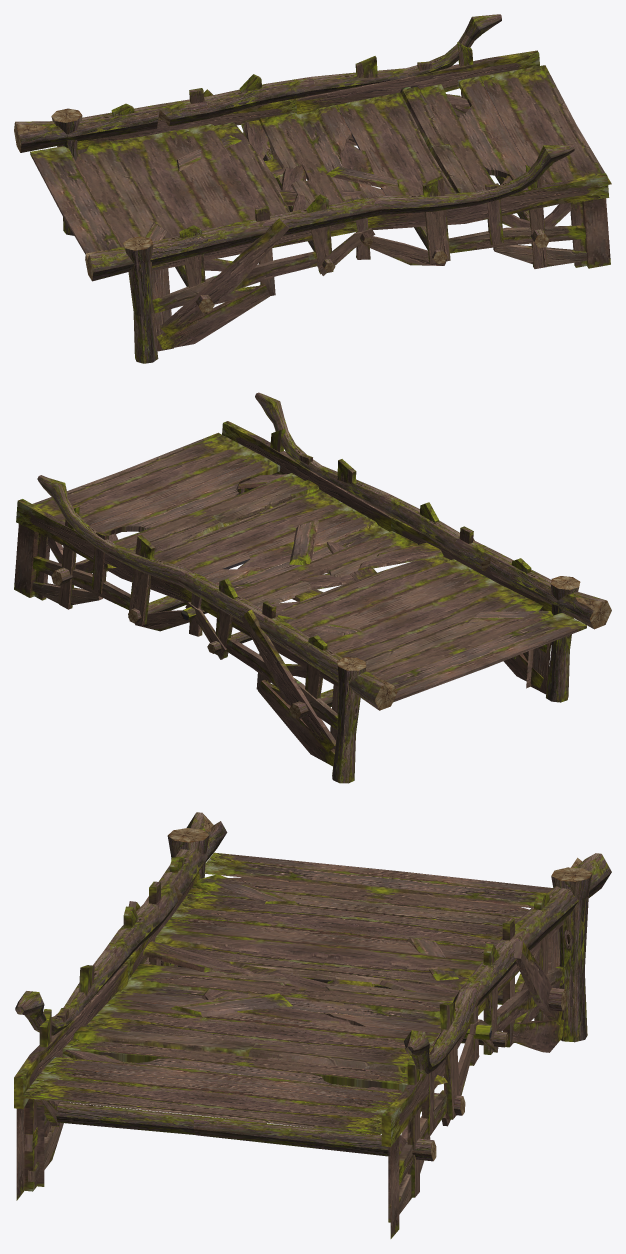
The model's file is f_1157_woodbrigde1.FBX.
The picture shows the model from 3 angles, top to bottom: view 1: azimuth 30°, elevation 25°; view 2: azimuth 150°, elevation 25°; view 3: azimuth 270°, elevation 25°; orthographic projection. The views are drawn at different scales.
Parts seen in each view (by area): view 1: w; view 2: w; view 3: w.
Part boxes in pixels (bbox=[...]): w: bbox=[14, 14, 611, 363]; w: bbox=[14, 392, 611, 783]; w: bbox=[14, 812, 611, 1238].
Size of the model in its own units: 52.66 by 17.01 by 38.81.
Materials: 1 (1 with a texture image).
